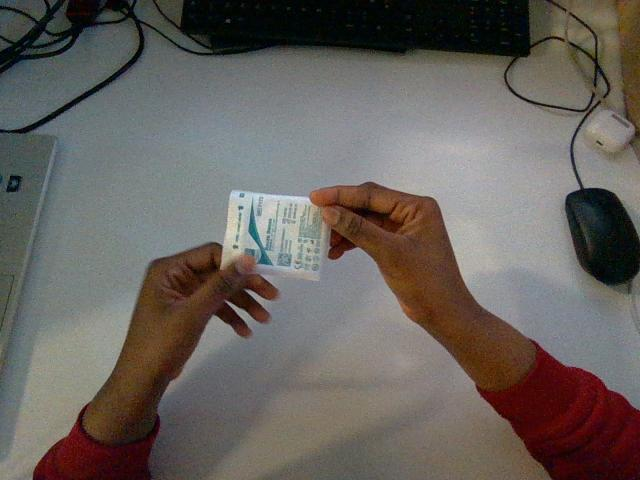gauze: (222, 190, 329, 279)
